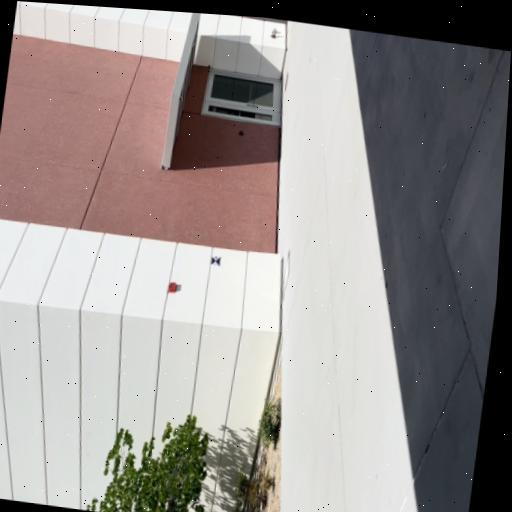target9: (211, 254, 221, 267)
